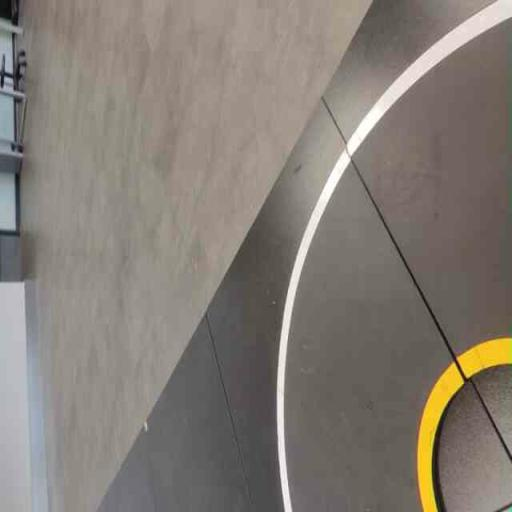left: (364, 2, 512, 394)
